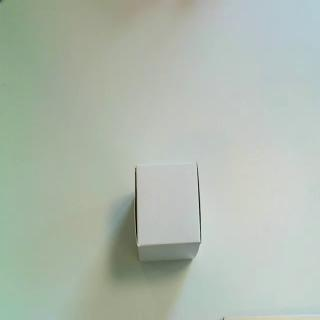apodorm5mg: (133, 160, 203, 264)
